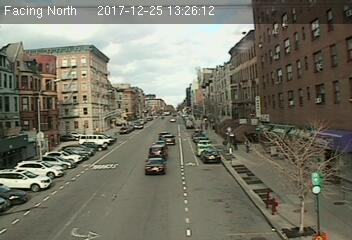car: (144, 157, 167, 173), (199, 149, 221, 163), (148, 144, 167, 156), (163, 133, 176, 145)
